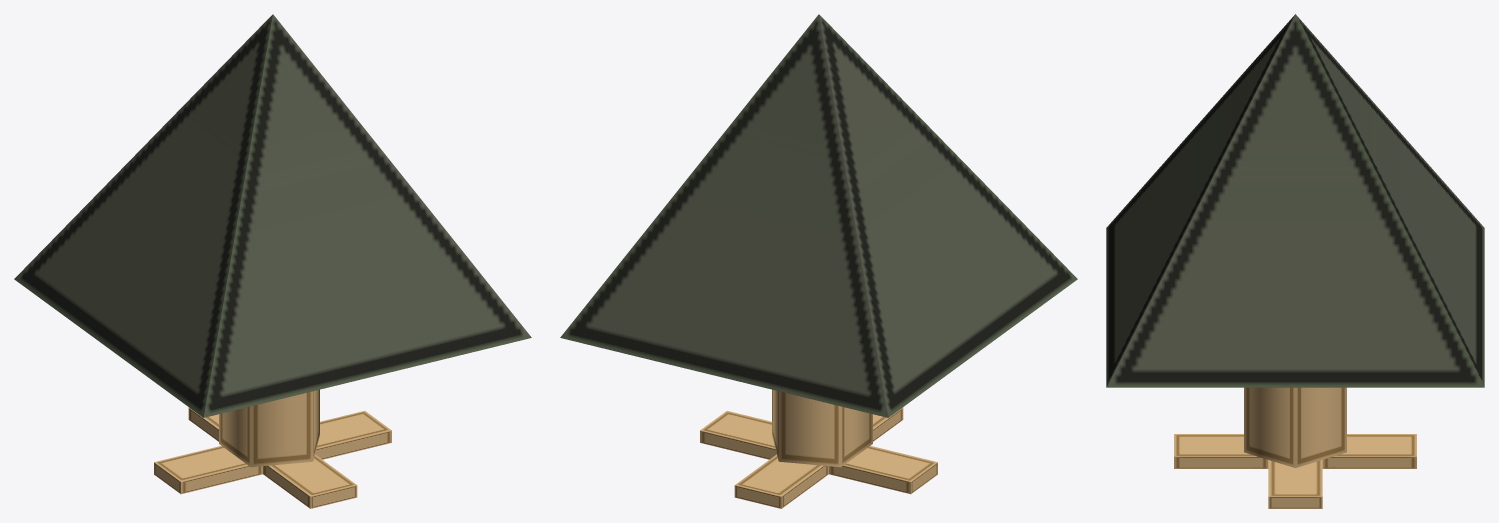
The model's file is Tree003.FBX.
3 views of the same model, side by side, from view 1: azimuth 30°, elevation 25°; view 2: azimuth 150°, elevation 25°; view 3: azimuth 270°, elevation 25° (orthographic).
Parts seen in each view (by area): view 1: tree003; view 2: tree003; view 3: tree003.
Boxes of the visible parts, left/top/right/bottom form: tree003: left=14, top=14, right=531, bottom=508; tree003: left=560, top=14, right=1077, bottom=508; tree003: left=1106, top=14, right=1484, bottom=508.
Bounding box in the file's own units: 140 × 181 × 140.
1 material, 1 textured.
